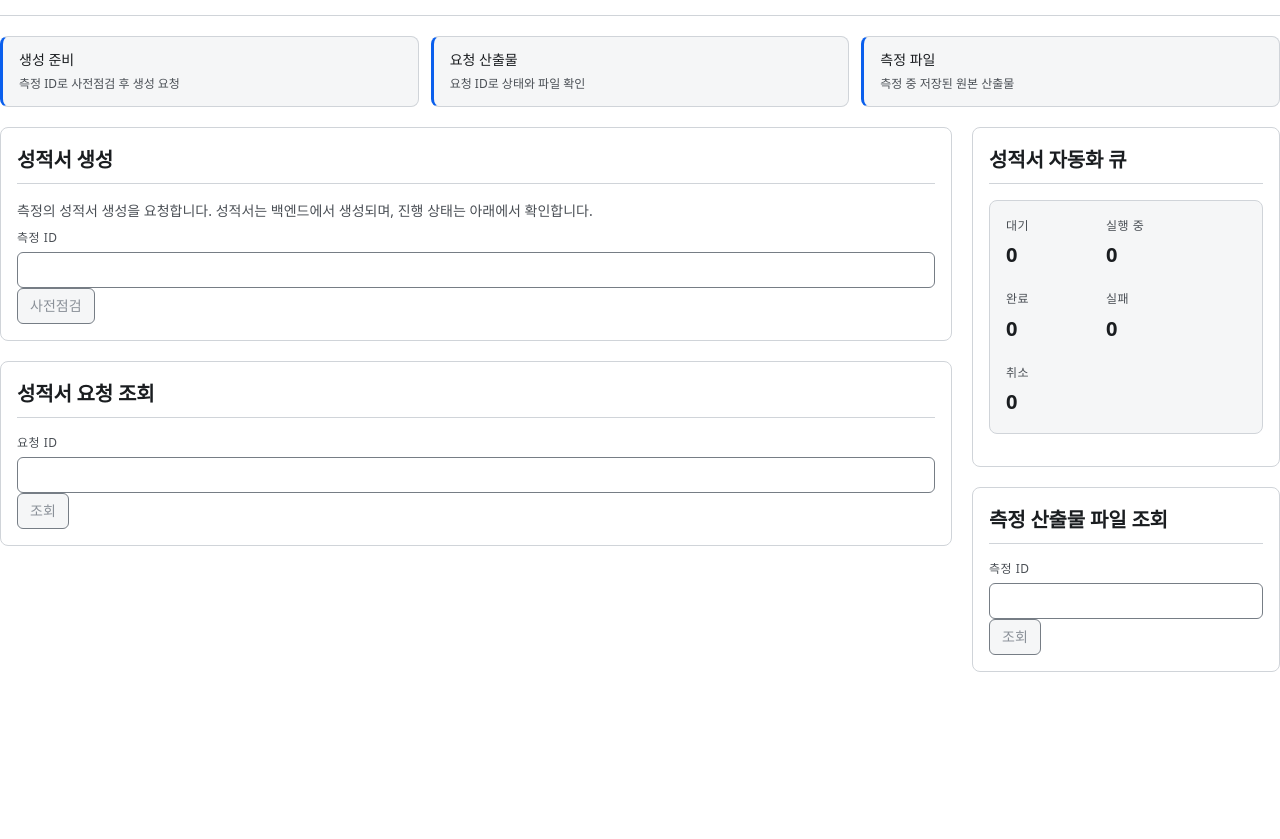
Test case: ReportsRoute submit report (Phase 5) › runs a preflight then submits + polls (advisory not blocking)
Note: Stage 1 — preflight (does NOT generate).
Type "12" into the field with test id "submit-session-input". click: (476, 270)
box: [17,252,935,288]
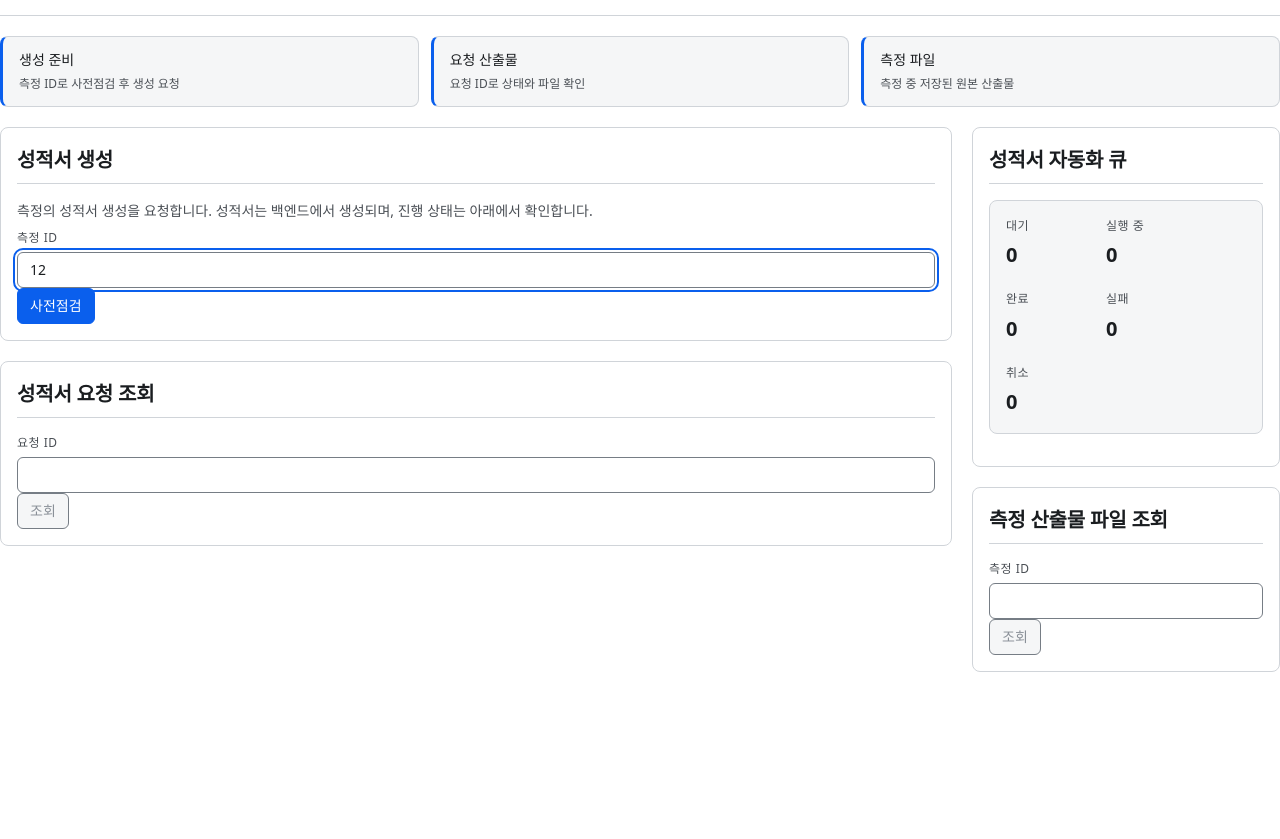
Click the button with test id "report-preflight-check". click: (56, 306)
box: [17,288,94,324]
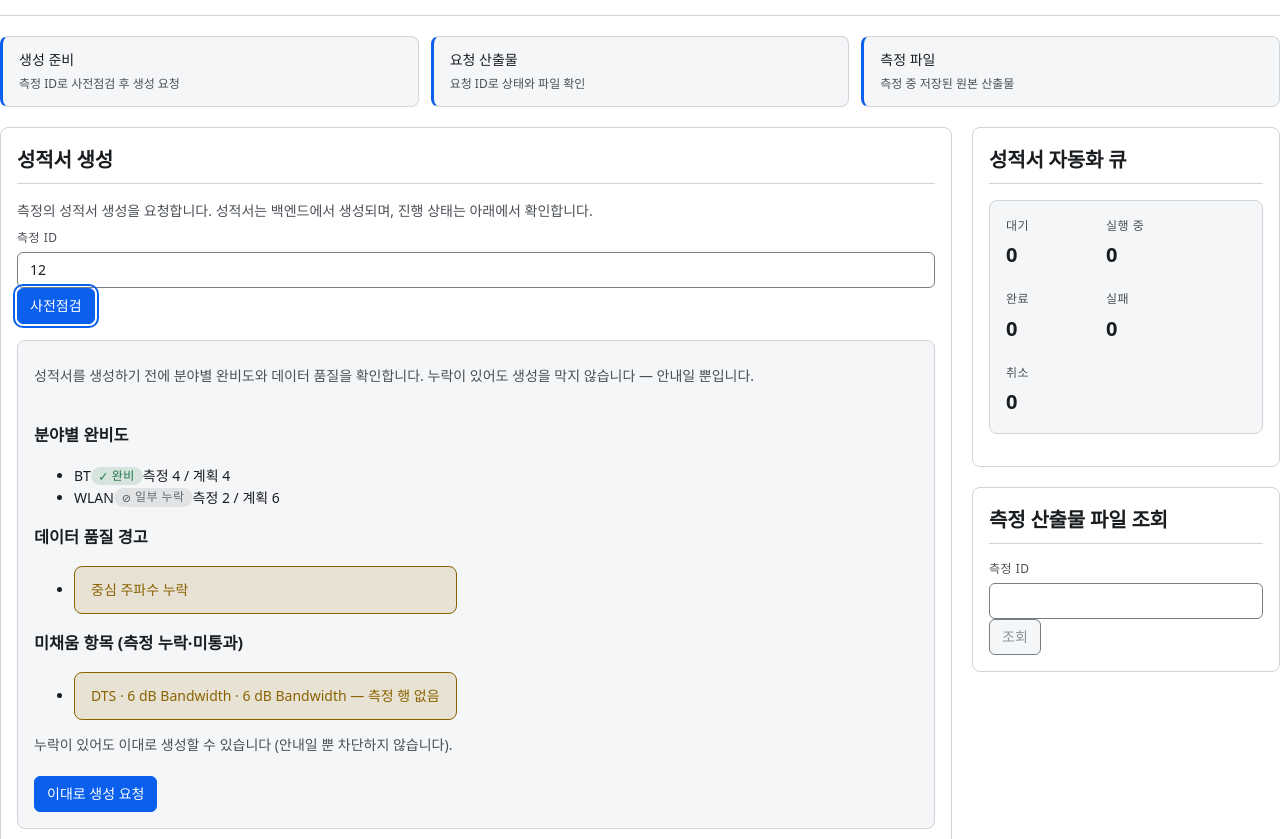
expect the element with test id "preflight-summary" is shown: met, box [34,407,457,764]
expect the number of list items with test id "preflight-tech-row" is 2: met, box [74,466,230,485]; [74,488,280,507]
expect the list with test id "preflight-data-quality" is shown: met, box [34,566,457,614]
Click the button with test id "report-submit". click: (96, 794)
box: [34,776,158,812]
(page scrolled)
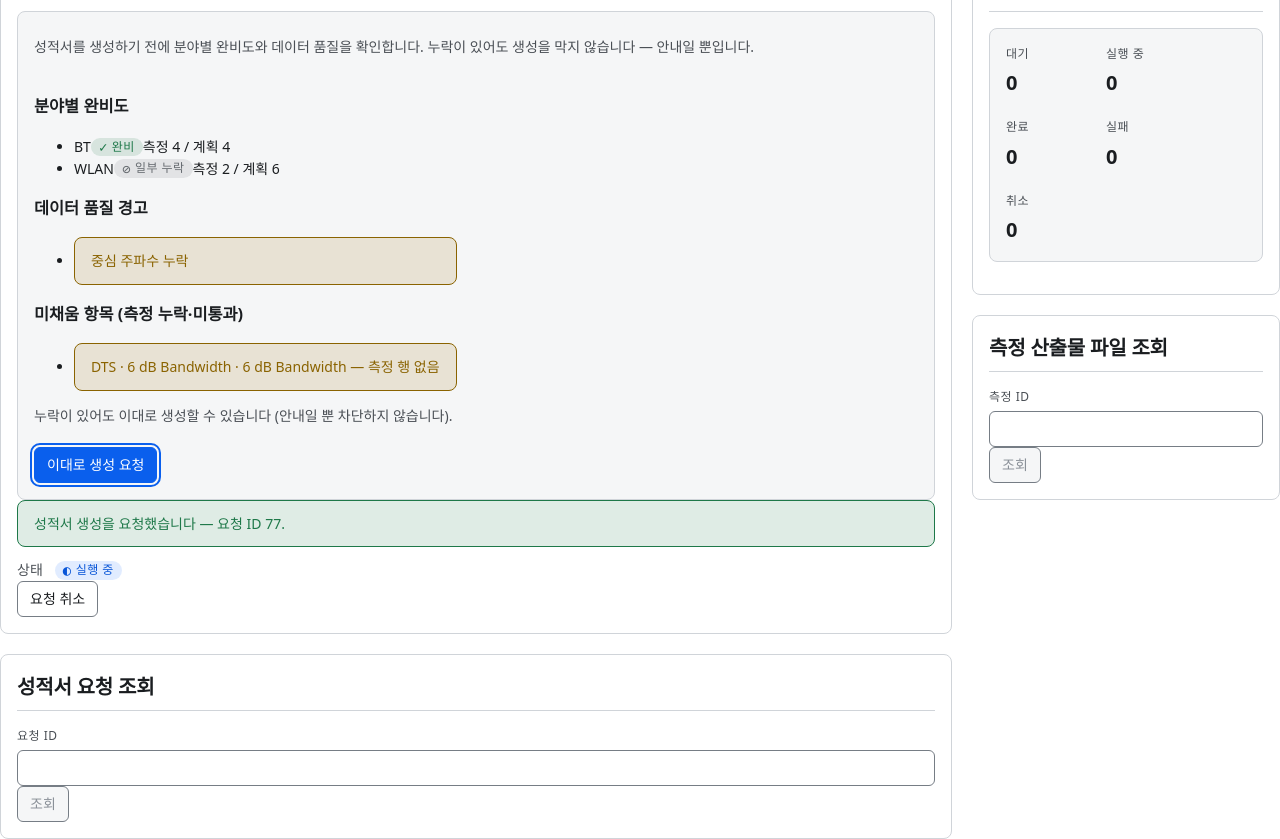
expect the message with test id "submit-success" shows "77": met, box [34,514,285,533]
expect the element with test id "submit-status" reads "◐ 실행 중": met, box [76,561,114,578]
